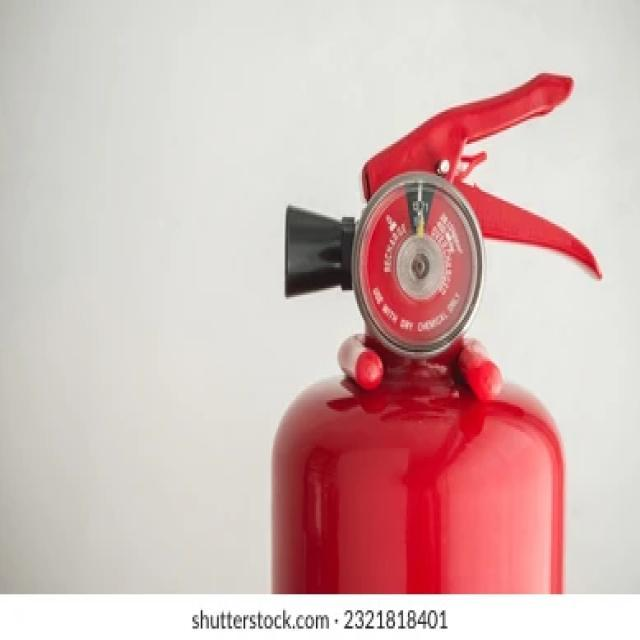pressure gauge: (352, 173, 482, 357)
